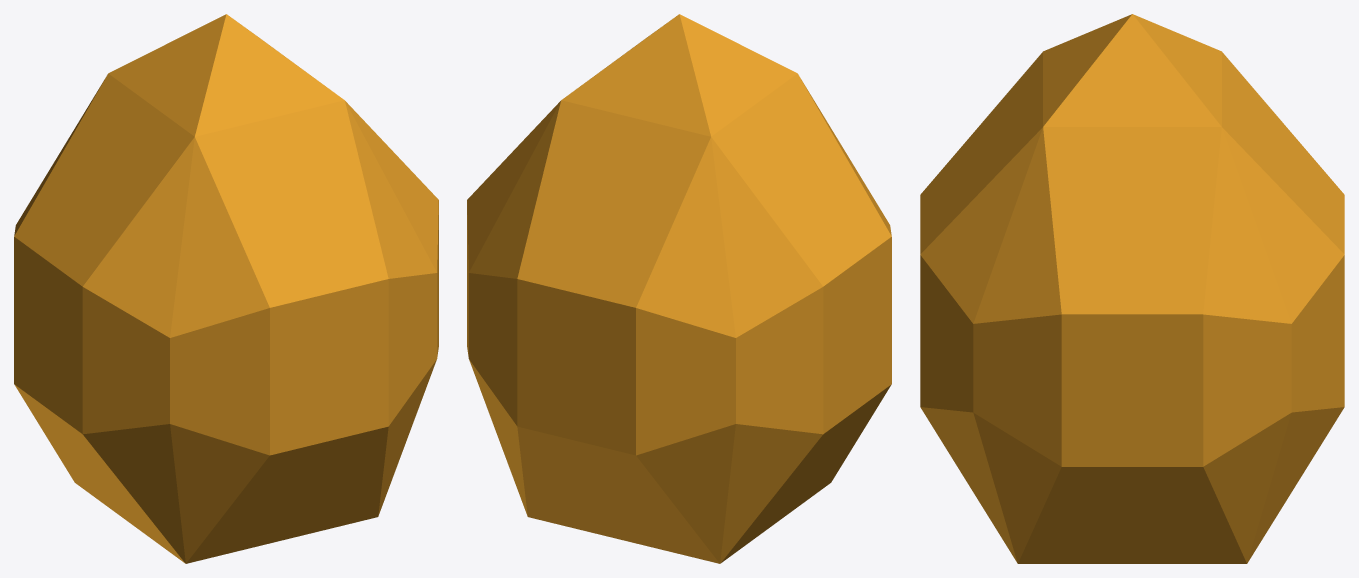
The model's file is ember.glb.
The picture shows the model from 3 angles, left to right: view 1: azimuth 30°, elevation 25°; view 2: azimuth 150°, elevation 25°; view 3: azimuth 270°, elevation 25°; orthographic projection. The views are drawn at different scales.
Parts seen in each view (by area): view 1: Cube; view 2: Cube; view 3: Cube.
Part boxes in pixels (x1,y1,x2,y2): Cube: (14,14,438,563); Cube: (467,14,891,563); Cube: (920,14,1344,563).
Bounding box in the file's own units: 0.9947 × 1.3 × 0.9947.
